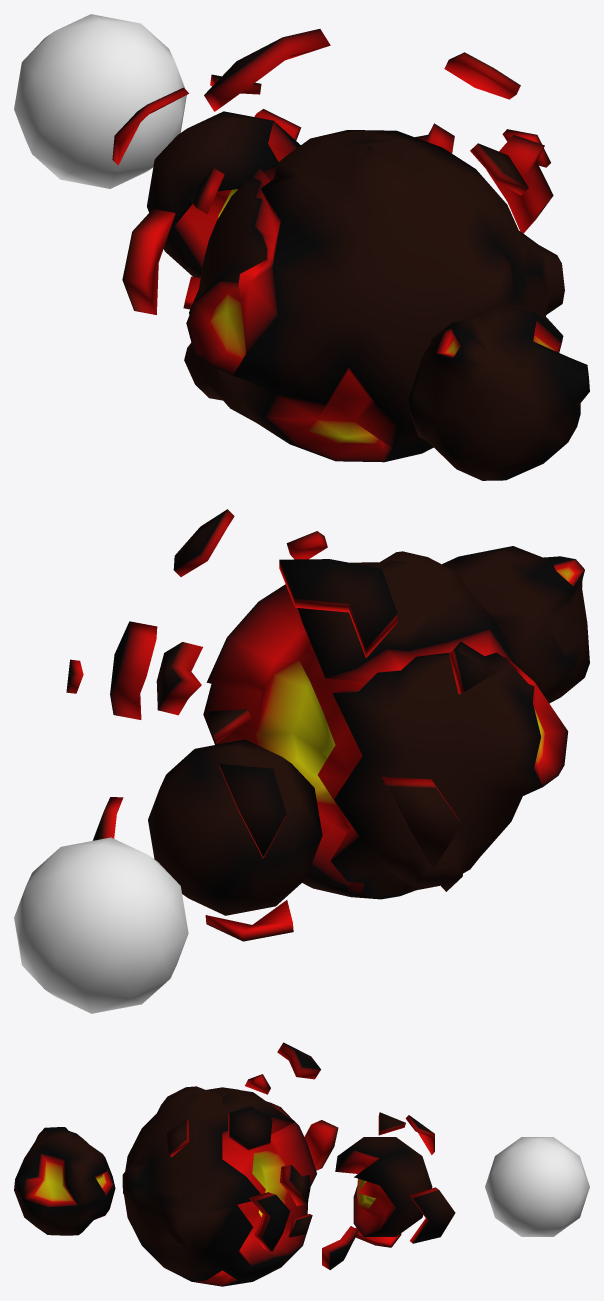
The model's file is PLANETOIDES.fbx.
3 renders of one model, top to bottom at view 1: azimuth 30°, elevation 25°; view 2: azimuth 150°, elevation 25°; view 3: azimuth 270°, elevation 25°, orthographic. The views are drawn at different scales.
Visible parts, largest first — view 1: Big_Planet, Planetoid, Icosphere, Med_Planet; view 2: Big_Planet, Med_Planet, Icosphere, Planetoid; view 3: Big_Planet, Med_Planet, Icosphere, Planetoid.
Boxes of the visible parts, <box> form: Big_Planet: <box>122,29,564,462</box>; Planetoid: <box>408,302,589,480</box>; Icosphere: <box>14,14,186,188</box>; Med_Planet: <box>112,74,301,309</box>; Big_Planet: <box>66,509,568,899</box>; Med_Planet: <box>92,709,322,941</box>; Icosphere: <box>14,837,188,1013</box>; Planetoid: <box>442,546,589,703</box>; Big_Planet: <box>122,1042,358,1286</box>; Med_Planet: <box>335,1112,455,1247</box>; Icosphere: <box>485,1137,589,1236</box>; Planetoid: <box>14,1127,115,1235</box>.
Size of the model in its own units: 540 by 463 by 1097.
